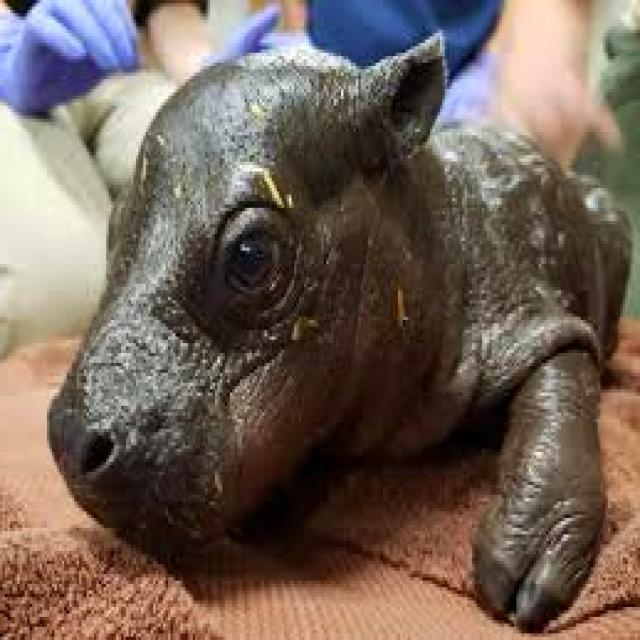hippopotamus: (49, 36, 630, 627)
